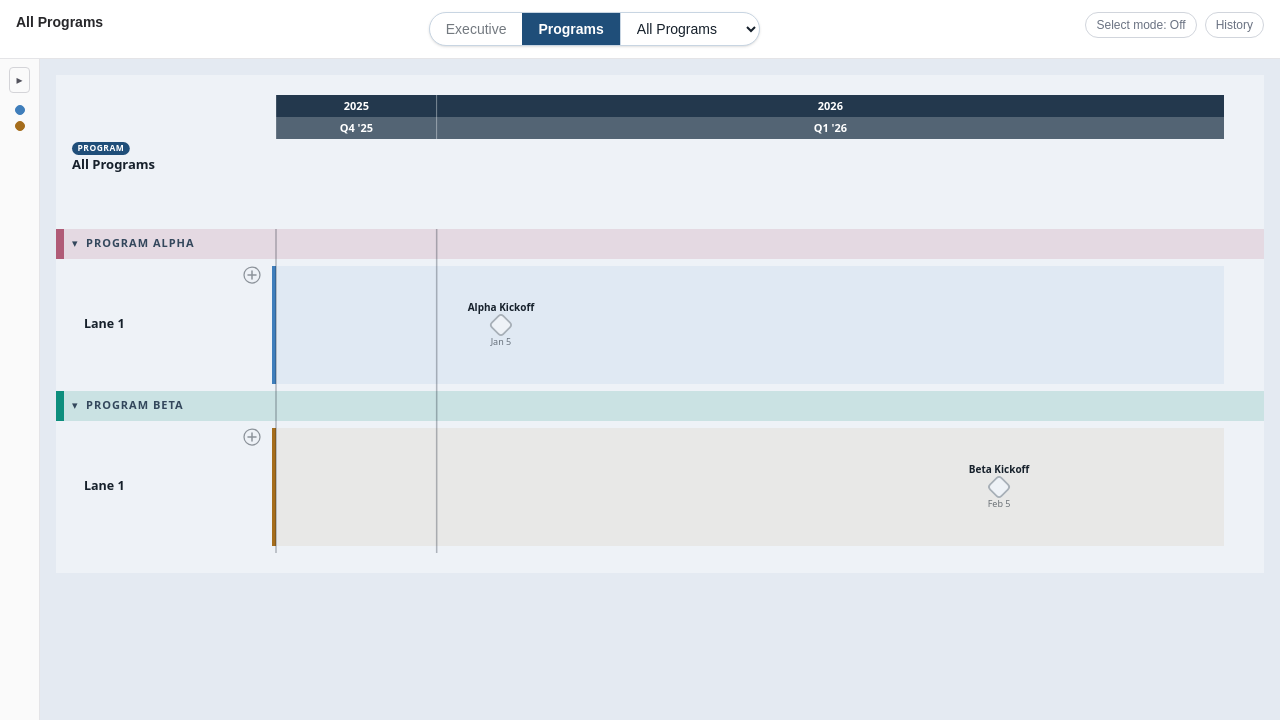
Test: AllProgramsPage — Version History (wayframe#128, #127's Variant B) › the pinned Live row, and closing the dock, both return to the live document
The image size is (1280, 720).
Click the button named "Open the Programs rail". click: [20, 80]
box: [10, 67, 30, 93]
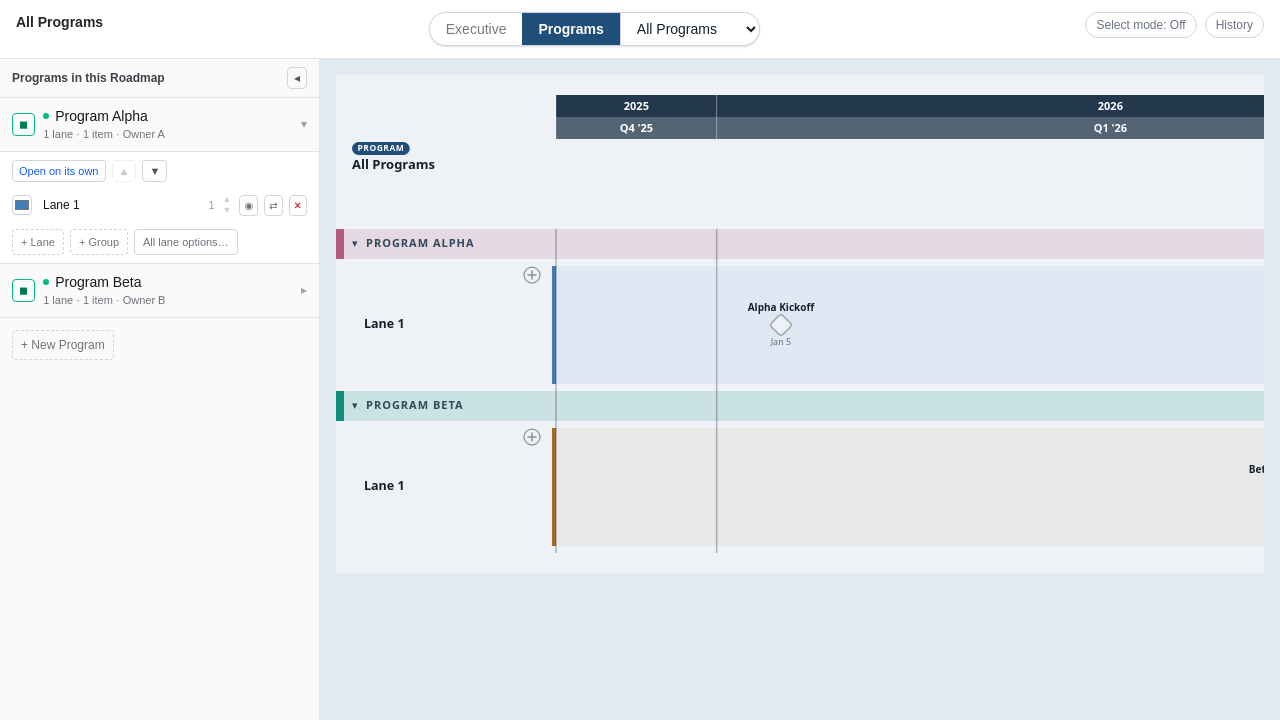
Click the button "History". click: [1234, 25]
box: [1205, 12, 1264, 38]
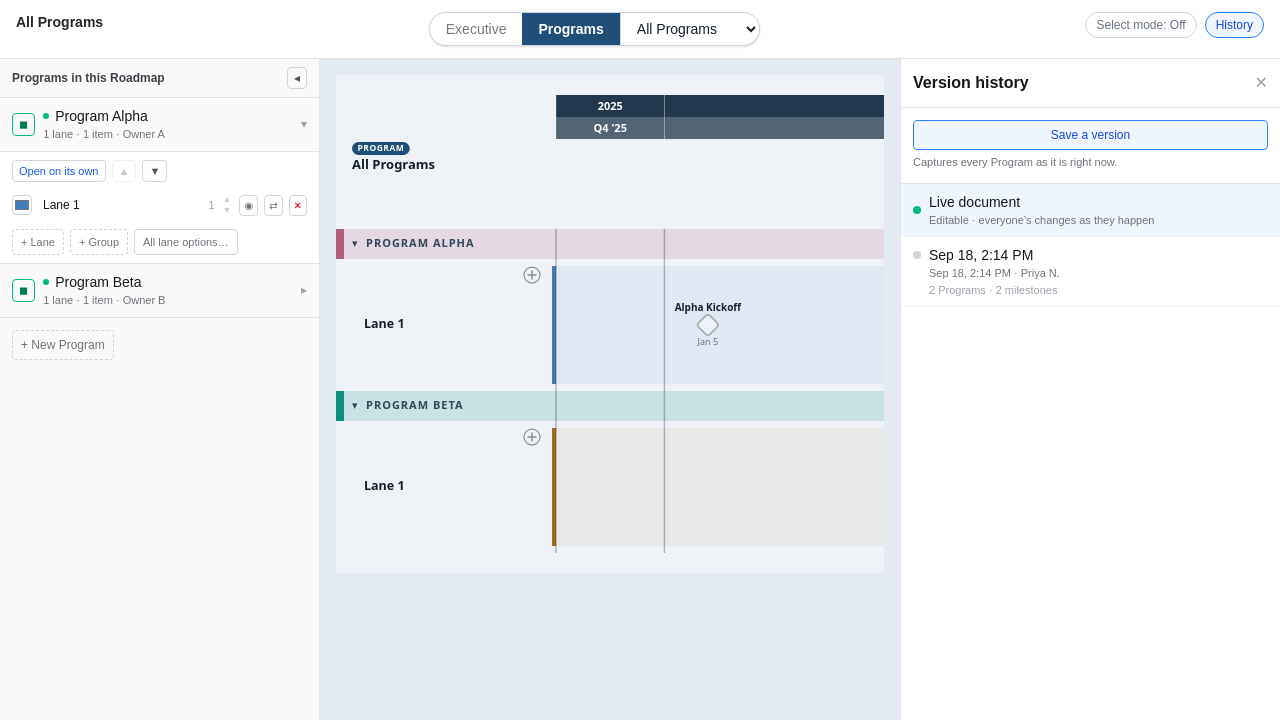
Result: the text "2 Programs · 2 milestones" is shown
Click the text "2 Programs · 2 milestones". click: [993, 290]
box: [929, 284, 1057, 296]
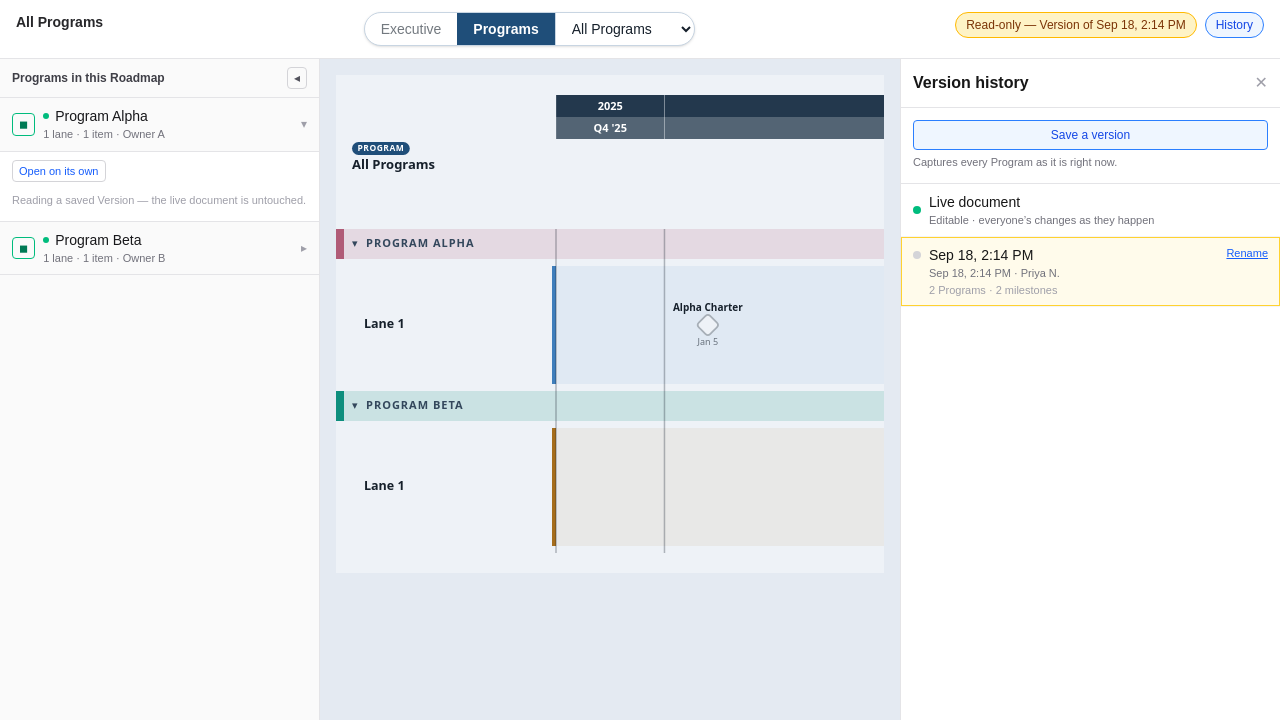
Click the button "Live document Editable · everyone’s changes as they happen". click: [975, 202]
box: [901, 184, 1279, 237]
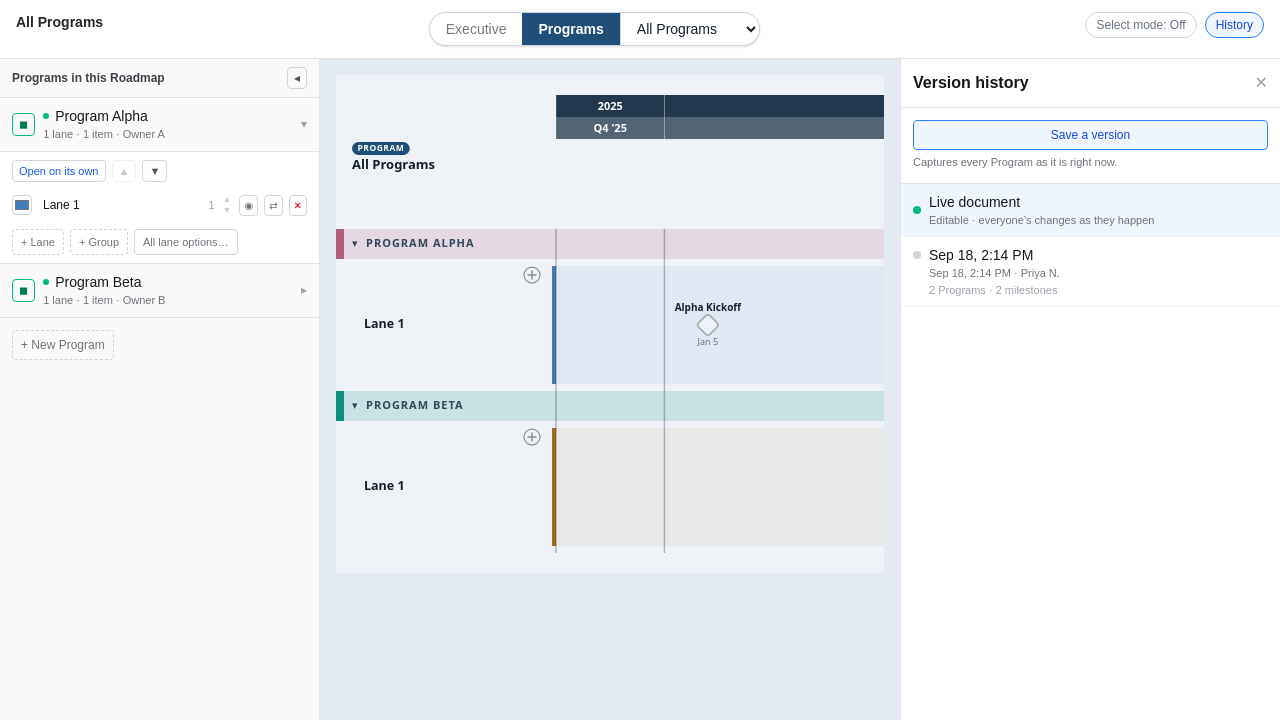
Click the text "2 Programs · 2 milestones". click: [993, 290]
box: [929, 284, 1057, 296]
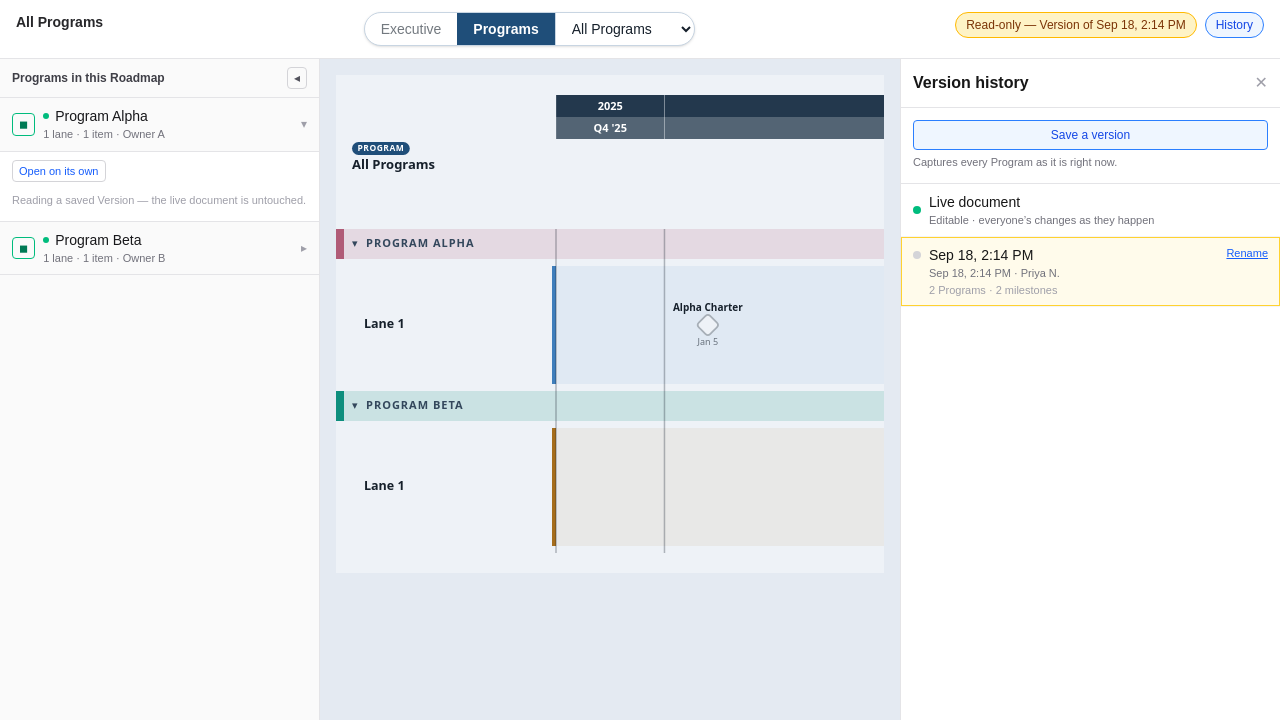
Click the button named "Close version history". click: [1261, 83]
box: [1255, 71, 1268, 95]
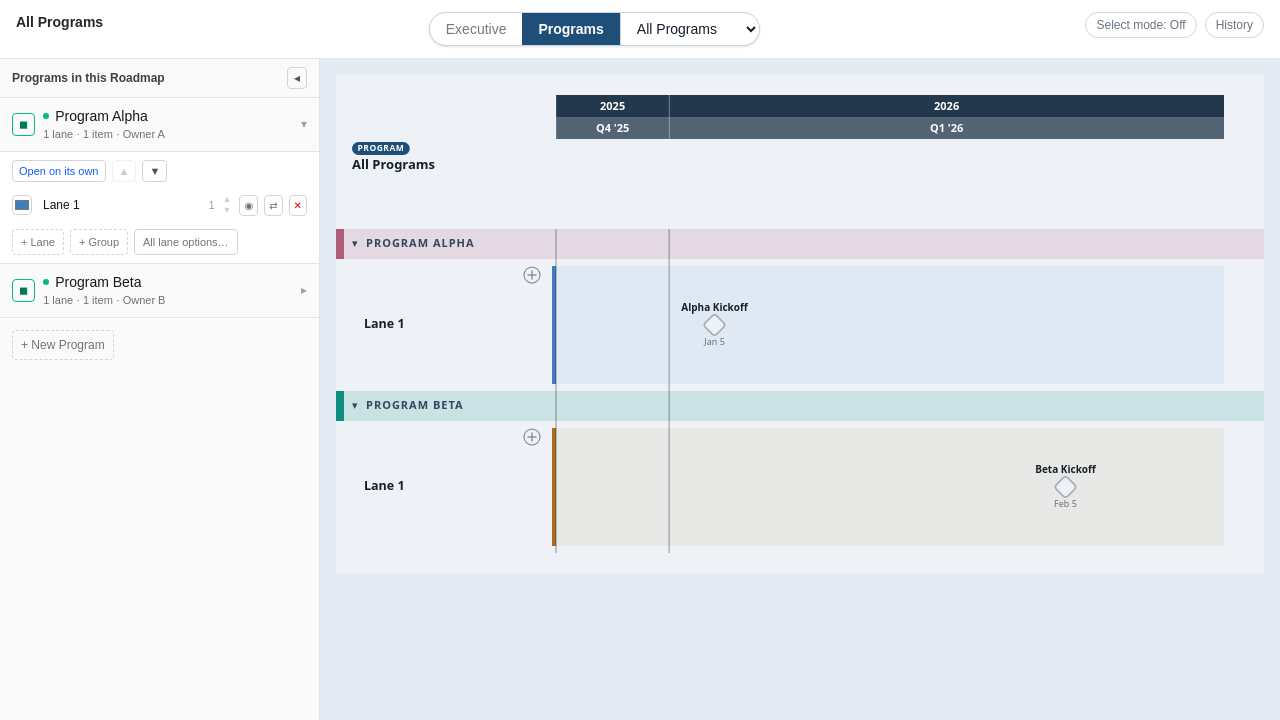
Result: the heading "Version history" is gone
